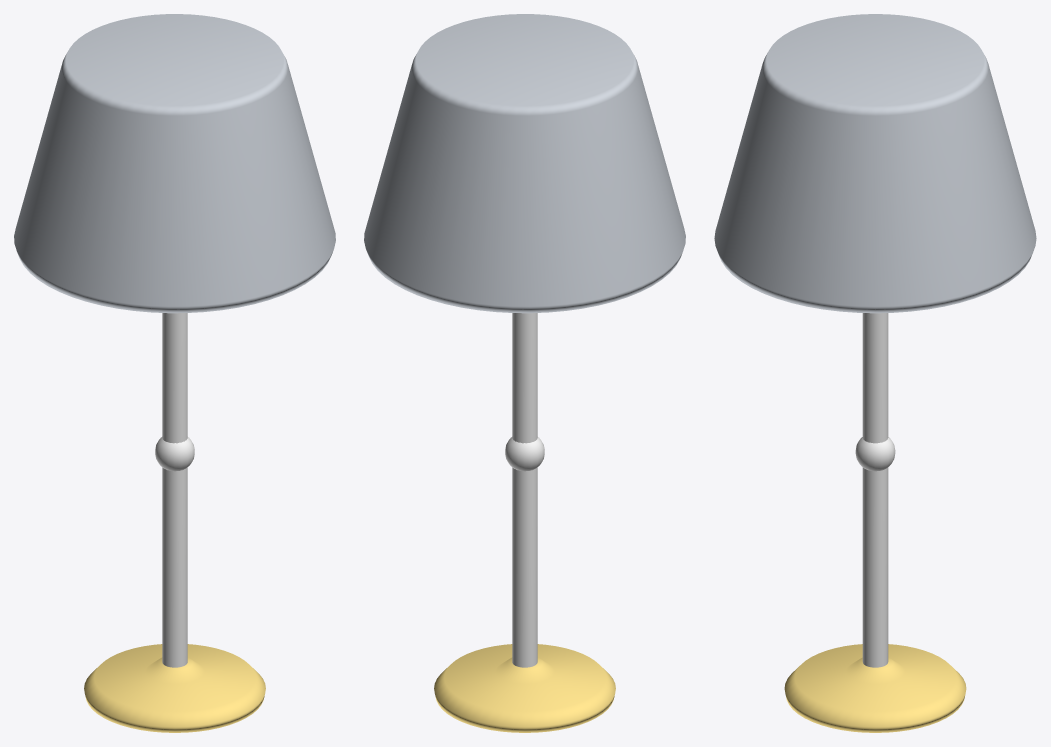
Rendered from BigBadVacuumLamp.glb.
3 views of the same model, side by side, from view 1: azimuth 30°, elevation 25°; view 2: azimuth 150°, elevation 25°; view 3: azimuth 270°, elevation 25° (orthographic).
Visible parts, largest first — view 1: Shade, Foot, Pole; view 2: Shade, Foot, Pole; view 3: Shade, Foot, Pole.
Boxes of the visible parts, left/top/right/bottom form: Shade: left=14, top=14, right=335, bottom=313; Foot: left=84, top=644, right=265, bottom=732; Pole: left=155, top=313, right=194, bottom=667; Shade: left=364, top=14, right=685, bottom=313; Foot: left=434, top=644, right=615, bottom=732; Pole: left=505, top=313, right=544, bottom=667; Shade: left=714, top=14, right=1036, bottom=313; Foot: left=784, top=644, right=966, bottom=732; Pole: left=855, top=313, right=895, bottom=667.
Size of the model in its own units: 21.6 by 47 by 21.6.
